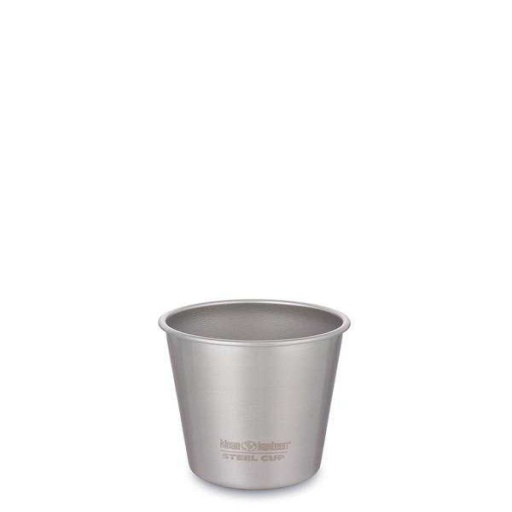cup: (156, 298, 351, 490)
